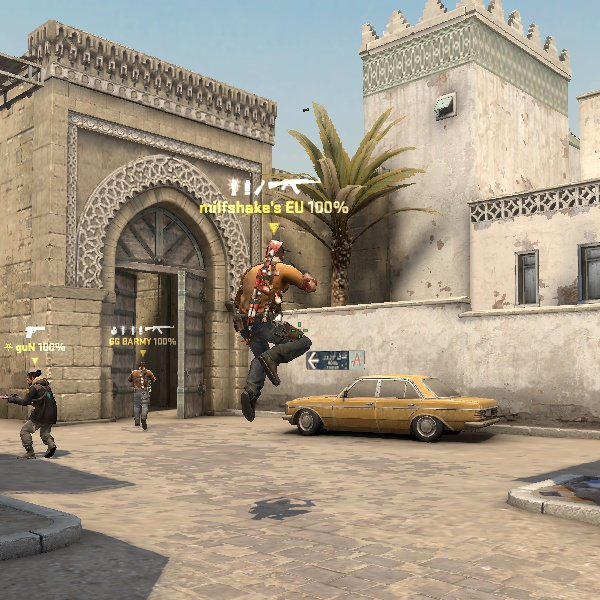t_body: (219, 238, 322, 432), (5, 365, 62, 460)
t_head: (257, 238, 289, 272)
